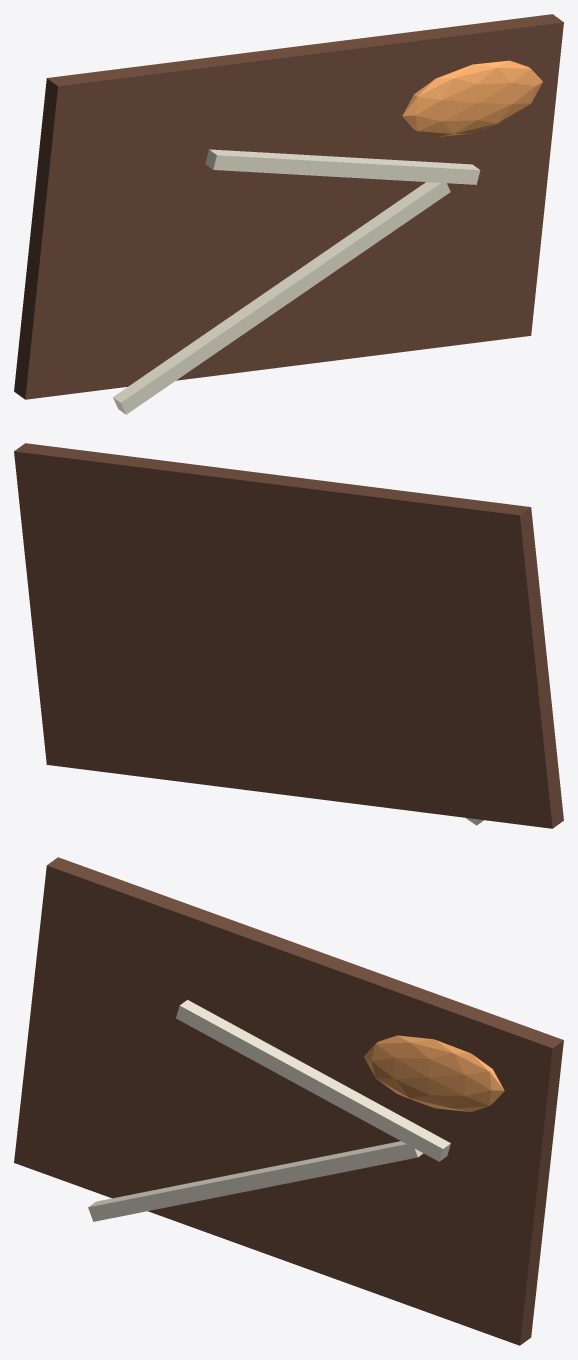
File: 06_weathering_wear_overlay_6.glb
The picture shows the model from 3 angles, top to bottom: view 1: azimuth 30°, elevation 25°; view 2: azimuth 150°, elevation 25°; view 3: azimuth 330°, elevation 25°; orthographic projection.
Visible parts, largest first — view 1: wear_plate, scratch_a, rust_or_moss_spot, scratch_b; view 2: wear_plate; view 3: wear_plate, rust_or_moss_spot, scratch_b, scratch_a.
Boxes of the visible parts, x1,y1,x2,y2 form: wear_plate: (14, 14, 563, 399); scratch_a: (113, 182, 450, 414); rust_or_moss_spot: (402, 60, 542, 137); scratch_b: (205, 149, 480, 184); wear_plate: (14, 443, 563, 828); wear_plate: (14, 857, 563, 1345); rust_or_moss_spot: (364, 1035, 504, 1111); scratch_b: (176, 1000, 450, 1161); scratch_a: (88, 1141, 423, 1221).
Size of the model in its own units: 1.38 by 0.8905 by 0.134.
